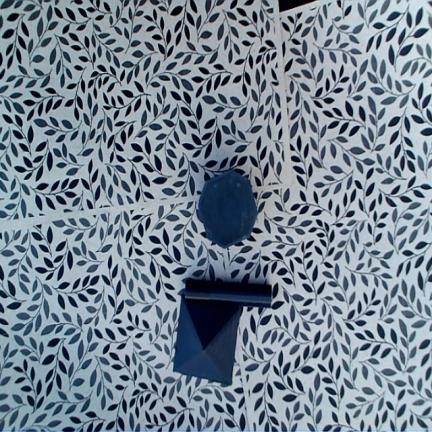Cilindro: (184, 279, 272, 307)
Piramide: (174, 295, 242, 383)
Prisma_hexagonal: (199, 171, 258, 248)
